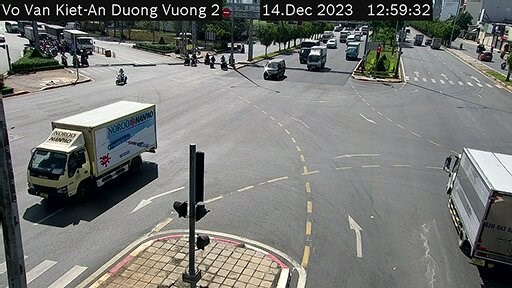car: (261, 58, 286, 83)
motorbike: (113, 66, 128, 85)
truck: (27, 98, 167, 203), (434, 131, 512, 277), (307, 43, 328, 72), (297, 38, 318, 66), (342, 43, 362, 60)
